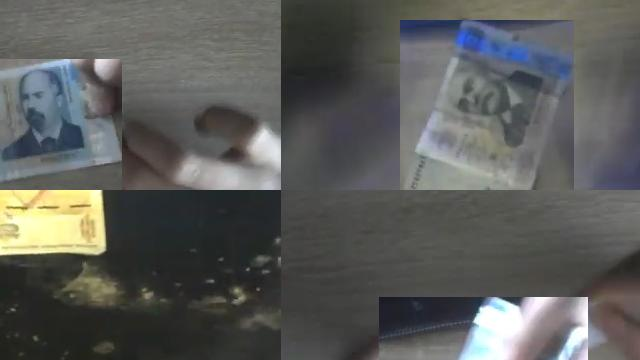10leva: (405, 20, 574, 190), (0, 214, 26, 248)
20leva: (0, 59, 122, 184), (460, 297, 522, 360)
